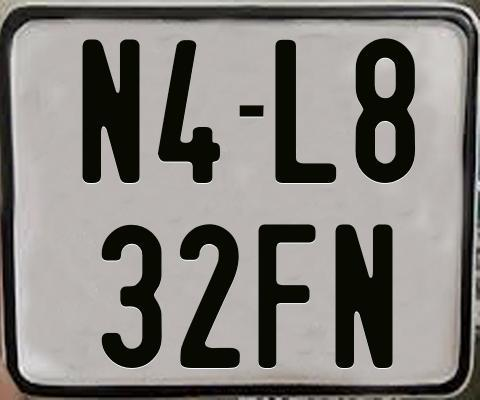2: (177, 222, 241, 371)
3: (100, 224, 160, 373)
4: (155, 37, 221, 183)
8: (352, 38, 418, 186)
F: (257, 224, 315, 373)
L: (275, 38, 340, 185)
N: (82, 36, 145, 182), (335, 222, 397, 369)
